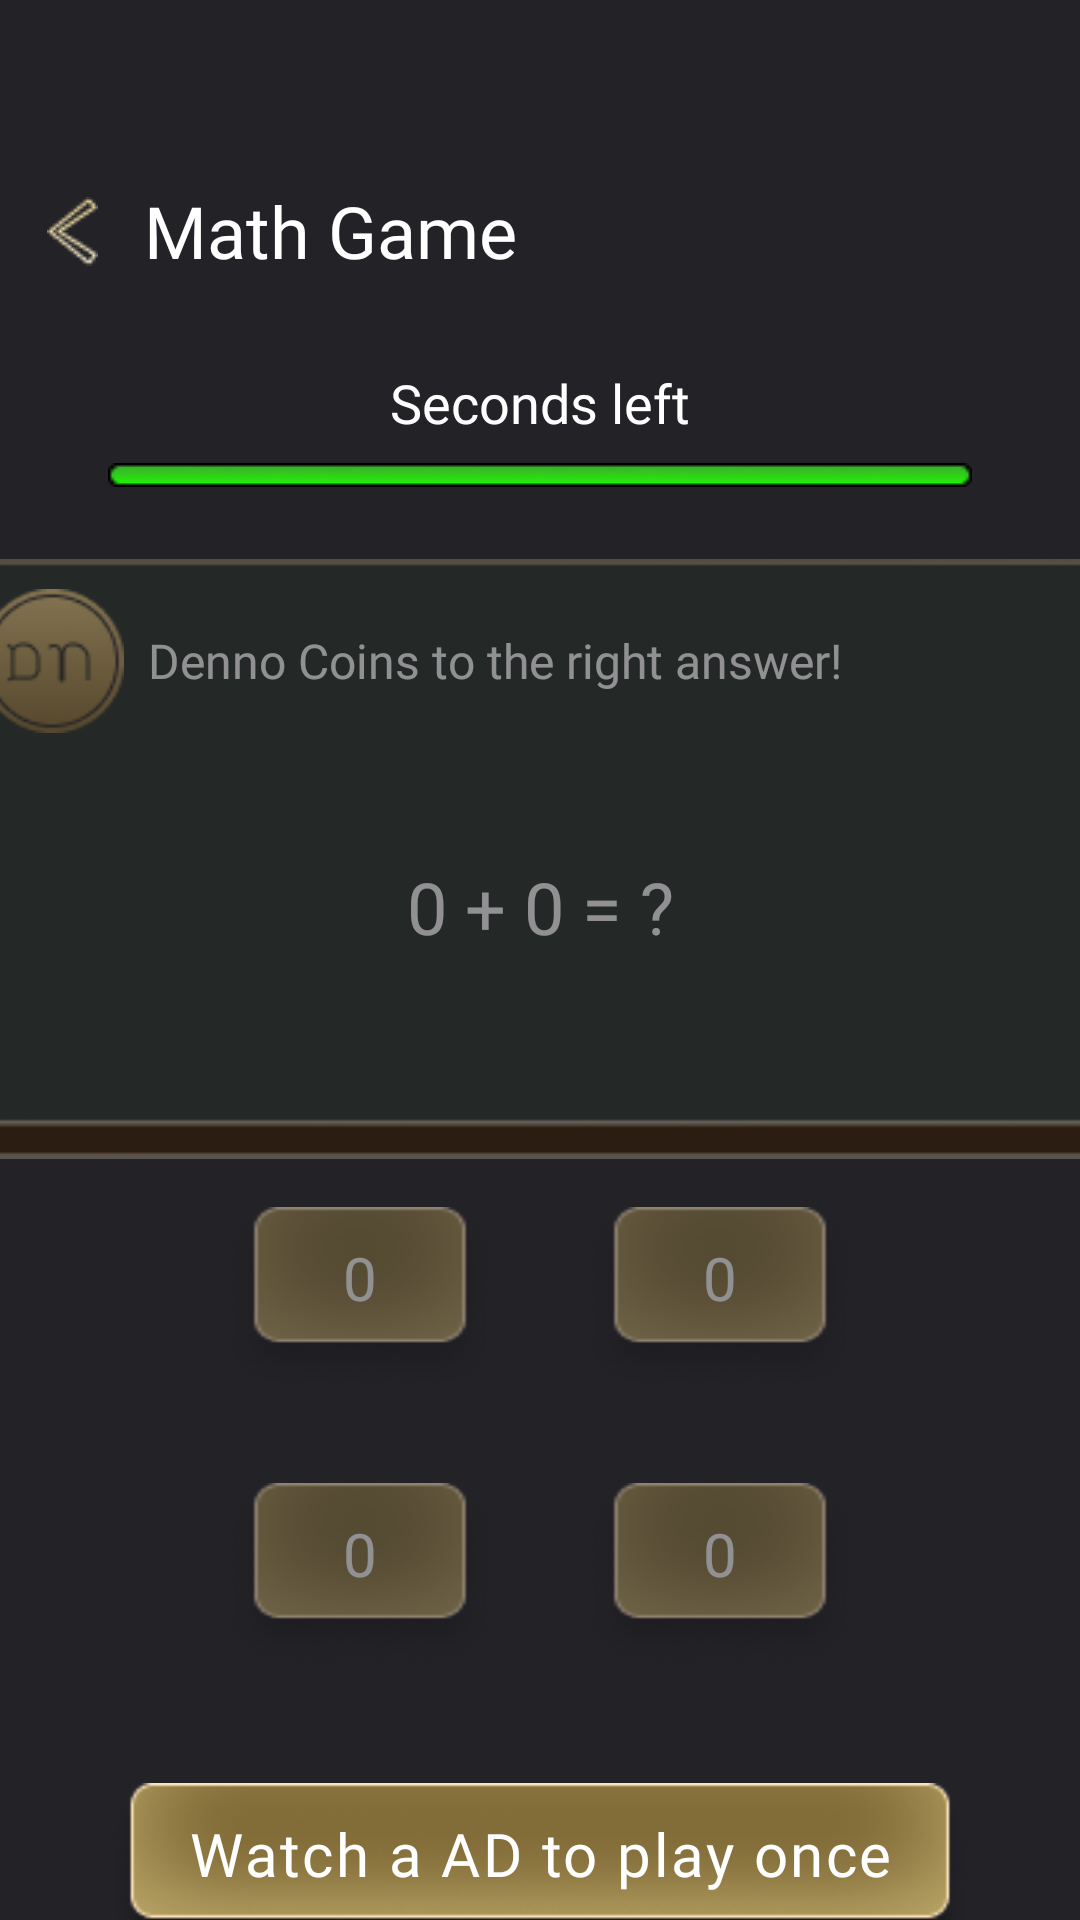

Icon bounding boxes for this 1080*1920 phone screenshot, format {"x1": x1, "y1": y1, "x2": x2, "y2": y2}:
Back: {"x1": 47, "y1": 197, "x2": 98, "y2": 266}
